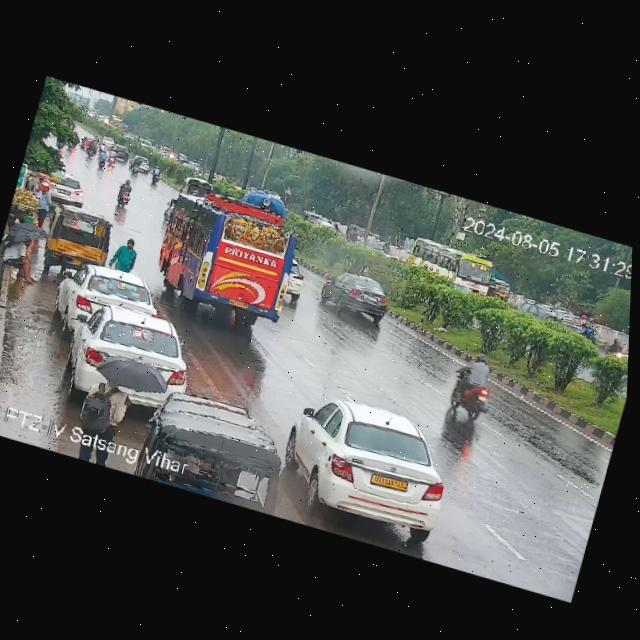bus: (132, 168, 316, 345), (396, 233, 513, 304)
car: (274, 383, 464, 544), (57, 295, 200, 402), (53, 259, 163, 343), (38, 201, 120, 275), (316, 265, 397, 327)
motorcycle: (441, 346, 501, 423), (107, 175, 140, 213), (82, 136, 101, 159), (93, 148, 112, 170)
person: (83, 350, 177, 435), (26, 181, 61, 228), (110, 235, 145, 276)
